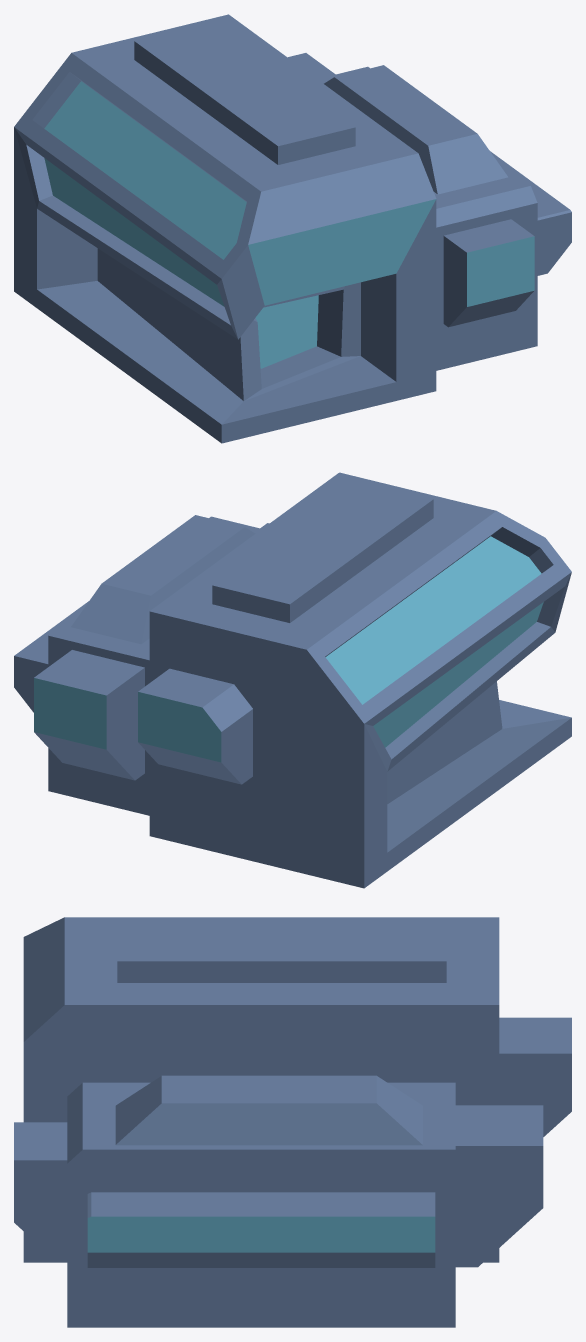
The model's file is human_building.glb.
3 views of the same model, one above another, from view 1: azimuth 30°, elevation 25°; view 2: azimuth 150°, elevation 25°; view 3: azimuth 270°, elevation 25° (orthographic). The views are drawn at different scales.
Visible parts, largest first — view 1: human_building; view 2: human_building; view 3: human_building.
Boxes of the visible parts, x1,y1,x2,y2 form: human_building: (14, 14, 571, 443); human_building: (14, 472, 571, 888); human_building: (14, 917, 571, 1327).
Bounding box in the file's own units: 9.92 × 6.09 × 11.04.
Materials: 1 (1 with a texture image).
